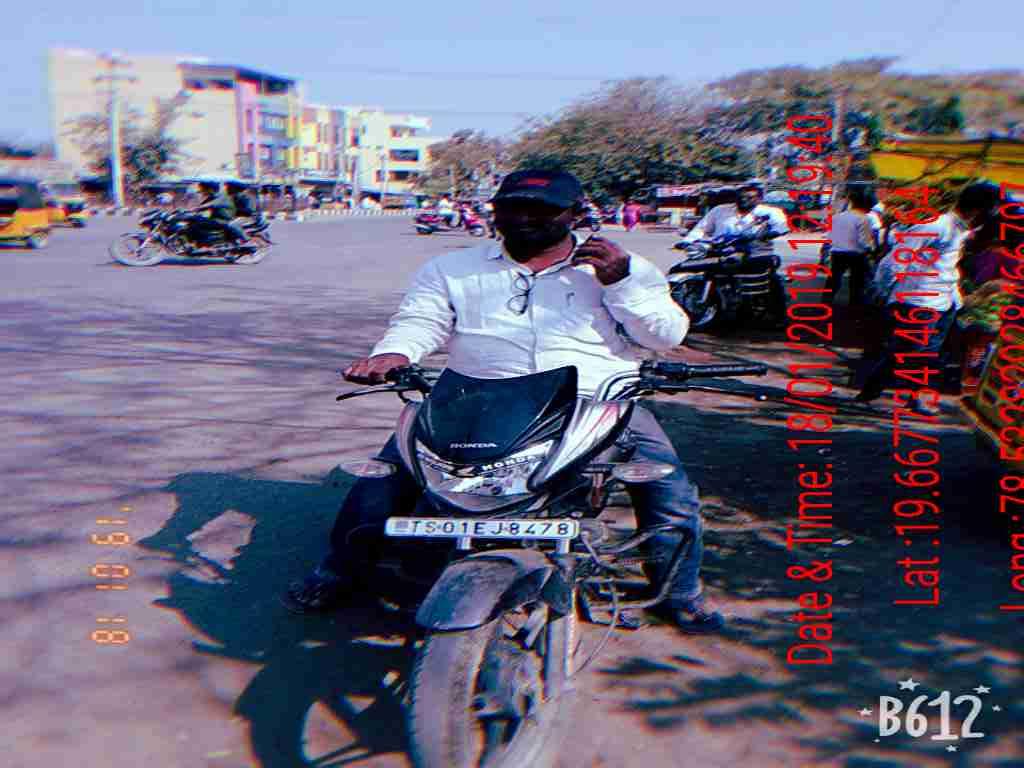plate: (380, 513, 582, 543)
